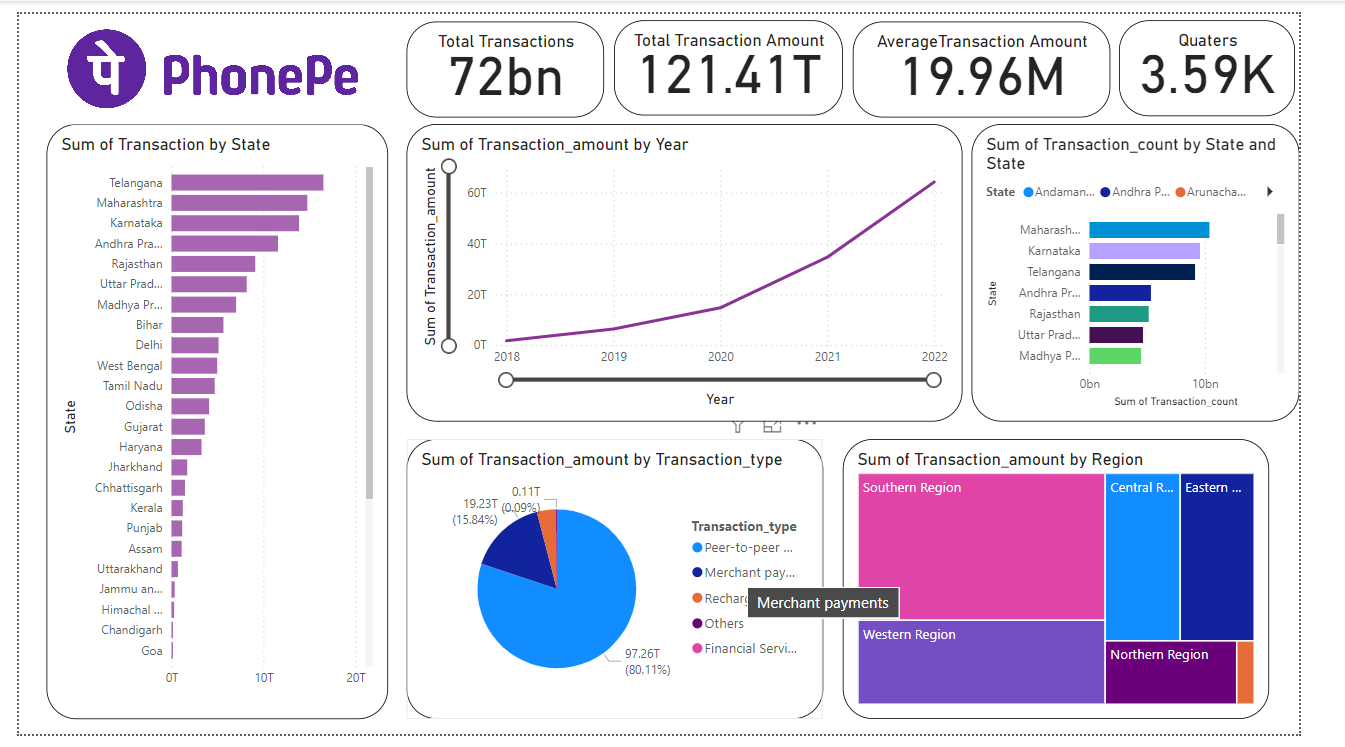

Layout of this report page (visuals, bound fields, positions):
{"tool":"powerbi","page":{"name":"Page 1","canvas":[1280,720],"ordinal":0},"visuals":[{"type":"barChart","title":"Sum of Transaction  by State","fields":{"Y":["Sum(agg_trans.Transaction_amount)"],"Category":["agg_trans.State"]},"box":[27.4,109.8,341.7,595.5],"z":1000},{"type":"image","box":[0,0,387.5,110],"z":2000},{"type":"pieChart","fields":{"Category":["agg_trans.Transaction_type"],"Y":["Sum(agg_trans.Transaction_amount)"]},"box":[387,425.4,417.2,279.9],"z":3000},{"type":"lineChart","fields":{"Category":["agg_trans.Year"],"Y":["Sum(agg_trans.Transaction_amount)"]},"box":[387,109.8,555.7,297.8],"z":4000},{"type":"barChart","fields":{"Series":["agg_user.State"],"Category":["agg_trans.State"],"Y":["Sum(agg_trans.Transaction_count)"]},"box":[952.3,109.8,328,297.8],"z":5000},{"type":"card","title":"Total Transactions","fields":{"Values":["Sum(agg_trans.Transaction_count)"]},"box":[387.5,7.5,197.5,96.2],"z":6000},{"type":"card","title":"Total Transaction Amount ","fields":{"Values":["Sum(agg_trans.Transaction_amount)"]},"box":[595,6.2,228.8,95],"z":7000},{"type":"card","title":"AverageTransaction Amount","fields":{"Values":["Avg(agg_trans.Transaction_count)"]},"box":[833.8,7.5,257.5,96.2],"z":8000},{"type":"treemap","fields":{"Group":["agg_trans.Region"],"Values":["Sum(agg_trans.Transaction_amount)"]},"box":[823.8,425,426.2,280],"z":9000},{"type":"card","title":"Quaters","fields":{"Values":["CountNonNull(agg_trans.Quarter)"]},"box":[1100,6.2,176.2,96.2],"z":10000}]}

Visuals, with their boxes in screenshot pixels (x1, y1, x2, y2), scaled from the page's 1280x720 canvas onto the 1345x747 screenshot:
"Sum of Transaction  by State" barChart: bbox=(29, 114, 388, 732)
image: bbox=(0, 0, 407, 114)
pieChart - agg_trans.Transaction_type x Sum(agg_trans.Transaction_amount): bbox=(407, 441, 845, 732)
lineChart - agg_trans.Year x Sum(agg_trans.Transaction_amount): bbox=(407, 114, 991, 423)
barChart - agg_user.State x agg_trans.State: bbox=(1001, 114, 1344, 423)
"Total Transactions" card: bbox=(407, 8, 615, 108)
"Total Transaction Amount " card: bbox=(625, 6, 866, 105)
"AverageTransaction Amount" card: bbox=(876, 8, 1147, 108)
treemap - agg_trans.Region x Sum(agg_trans.Transaction_amount): bbox=(866, 441, 1313, 731)
"Quaters" card: bbox=(1156, 6, 1341, 106)
